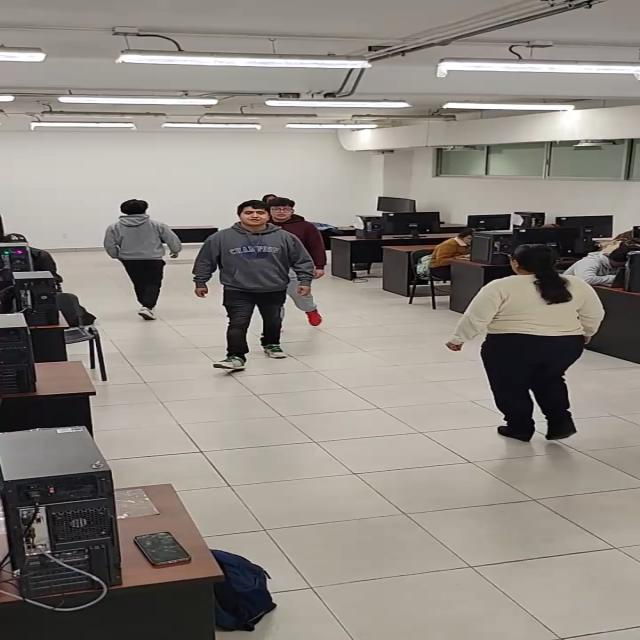Persona: (448, 243, 606, 443), (192, 200, 316, 370), (105, 200, 185, 320), (260, 198, 326, 328)
